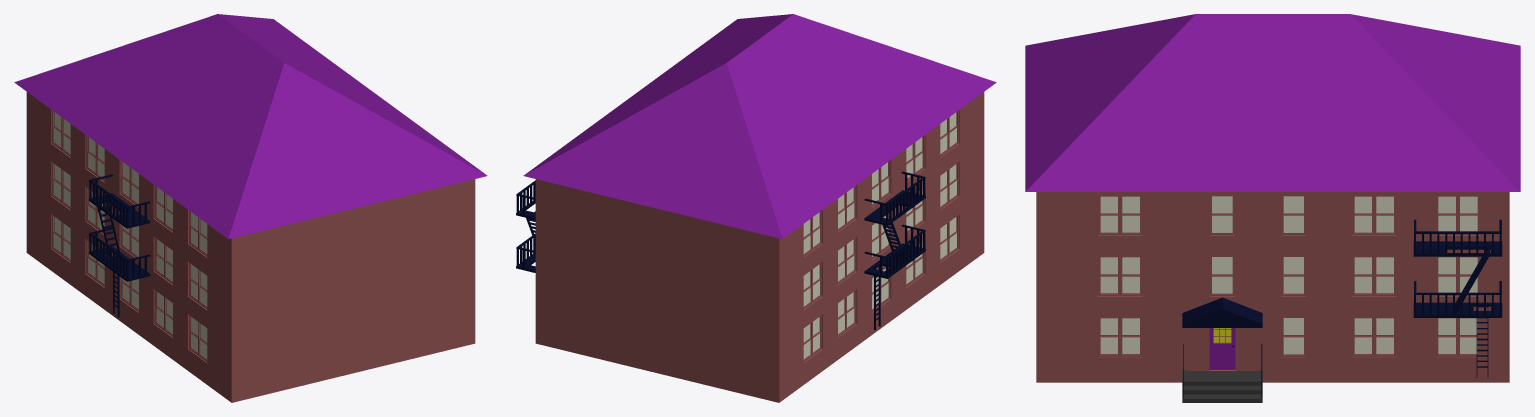
The model's file is house5.FBX.
The picture shows the model from 3 angles, left to right: view 1: azimuth 30°, elevation 25°; view 2: azimuth 150°, elevation 25°; view 3: azimuth 270°, elevation 25°; orthographic projection. The views are drawn at different scales.
Parts seen in each view (by area): view 1: Building R; view 2: Building R; view 3: Building R.
Boxes of the visible parts, bbox=[...] form: Building R: bbox=[14, 14, 487, 402]; Building R: bbox=[516, 14, 996, 402]; Building R: bbox=[1025, 14, 1520, 402].
Bounding box in the file's own units: 1506 × 1235 × 1846.
